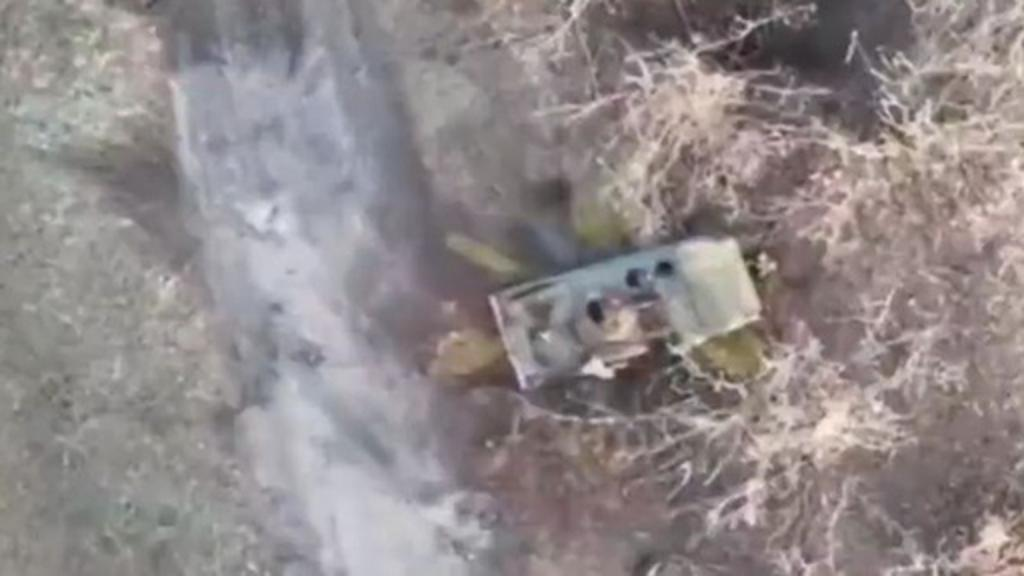APC-IFV: (472, 234, 768, 384)
